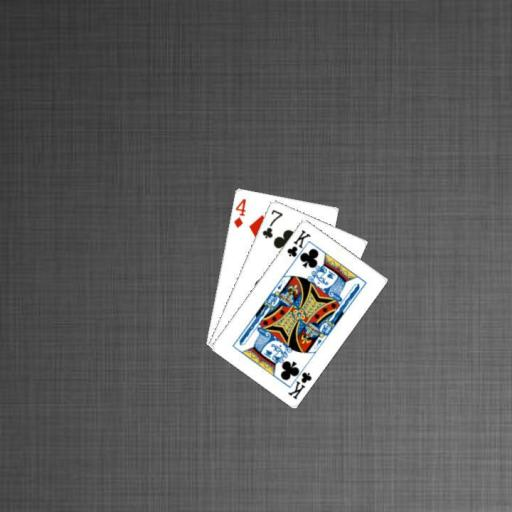4D: (230, 195, 247, 229)
7C: (259, 206, 284, 240)
KC: (285, 362, 314, 400), (284, 226, 312, 265)
